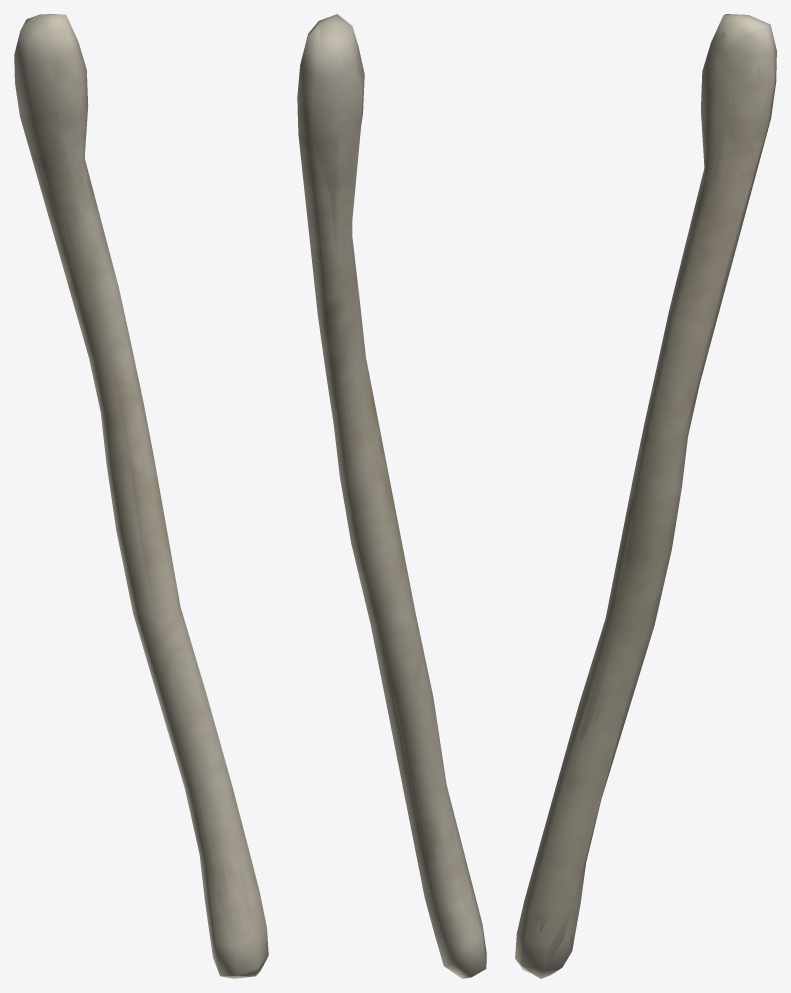
Rendered from R metatarsi quartum.fbx.
The picture shows the model from 3 angles, left to right: view 1: azimuth 90°, elevation 25°; view 2: azimuth 150°, elevation 25°; view 3: azimuth 270°, elevation 25°; orthographic projection. The views are drawn at different scales.
Parts seen in each view (by area): view 1: R metatarsi quartum, R metatarsi quartum low, R metatarsi quartum high; view 2: R metatarsi quartum, R metatarsi quartum low, R metatarsi quartum high; view 3: R metatarsi quartum, R metatarsi quartum low, R metatarsi quartum high.
Part boxes in pixels (<box>): R metatarsi quartum: <box>14,14,268,975</box>; R metatarsi quartum low: <box>20,14,259,978</box>; R metatarsi quartum high: <box>24,21,250,976</box>; R metatarsi quartum: <box>297,14,486,978</box>; R metatarsi quartum low: <box>298,25,485,978</box>; R metatarsi quartum high: <box>313,29,477,972</box>; R metatarsi quartum: <box>515,14,776,978</box>; R metatarsi quartum low: <box>532,19,771,977</box>; R metatarsi quartum high: <box>523,26,759,968</box>.
Size of the model in its own units: 0.5055 by 5.57 by 1.36.
Materials: 1 (1 with a texture image).
